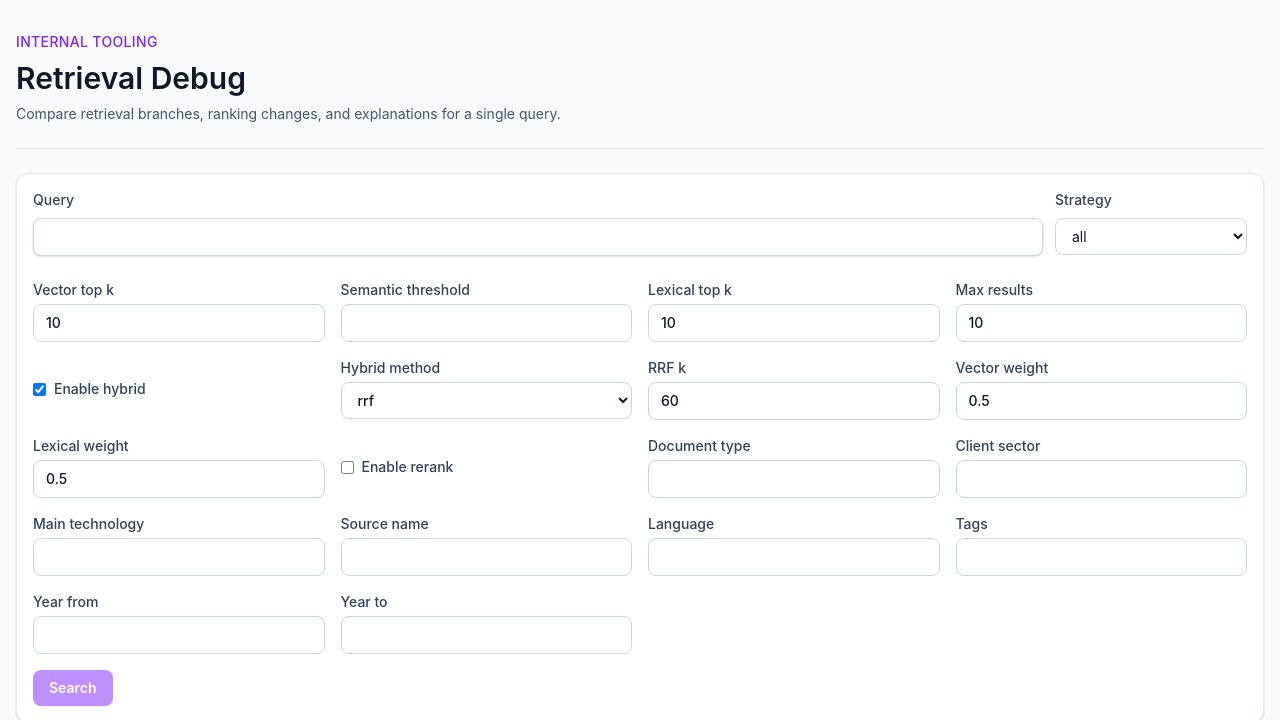
RetrievalDebugPage › renders comparative results, branch rankings, explanations, and ranking diff
Type "OAuth backend" into the search field labelled "Query" at (538, 237), box x1=33 y1=218 x2=1043 y2=256
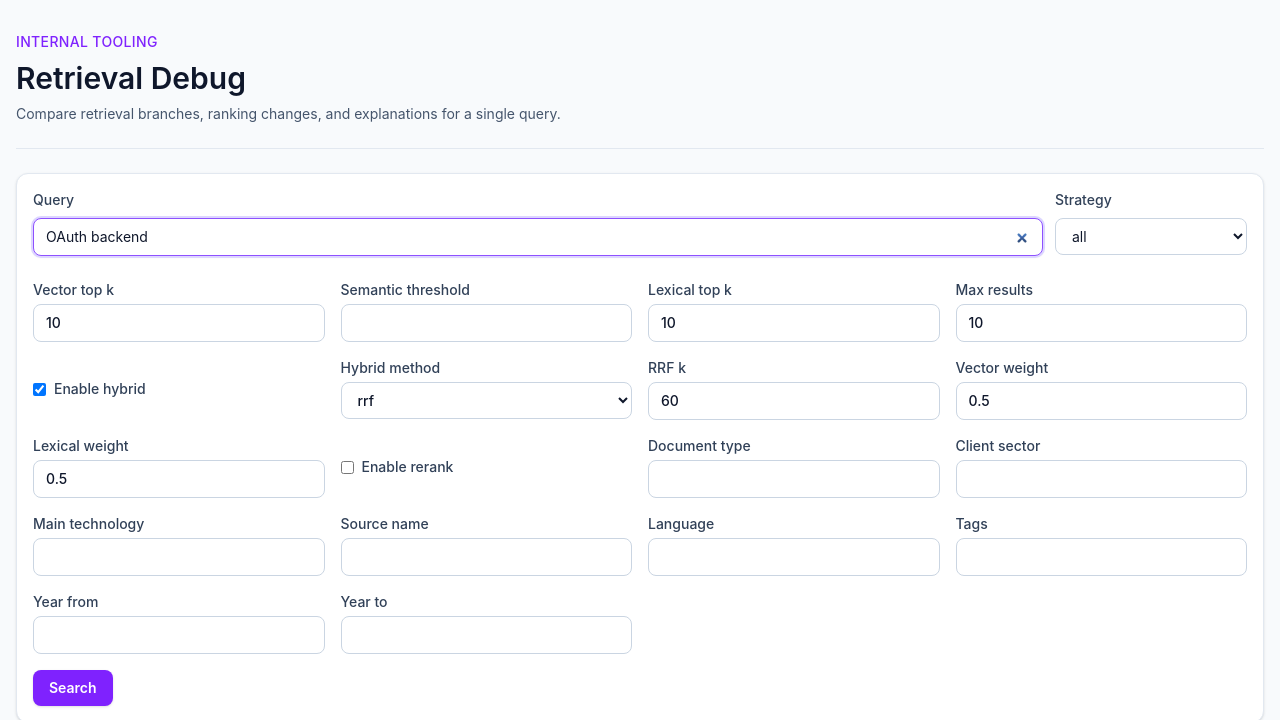
Click the button "Search" at (73, 688), box x1=33 y1=670 x2=112 y2=706
(page scrolled)
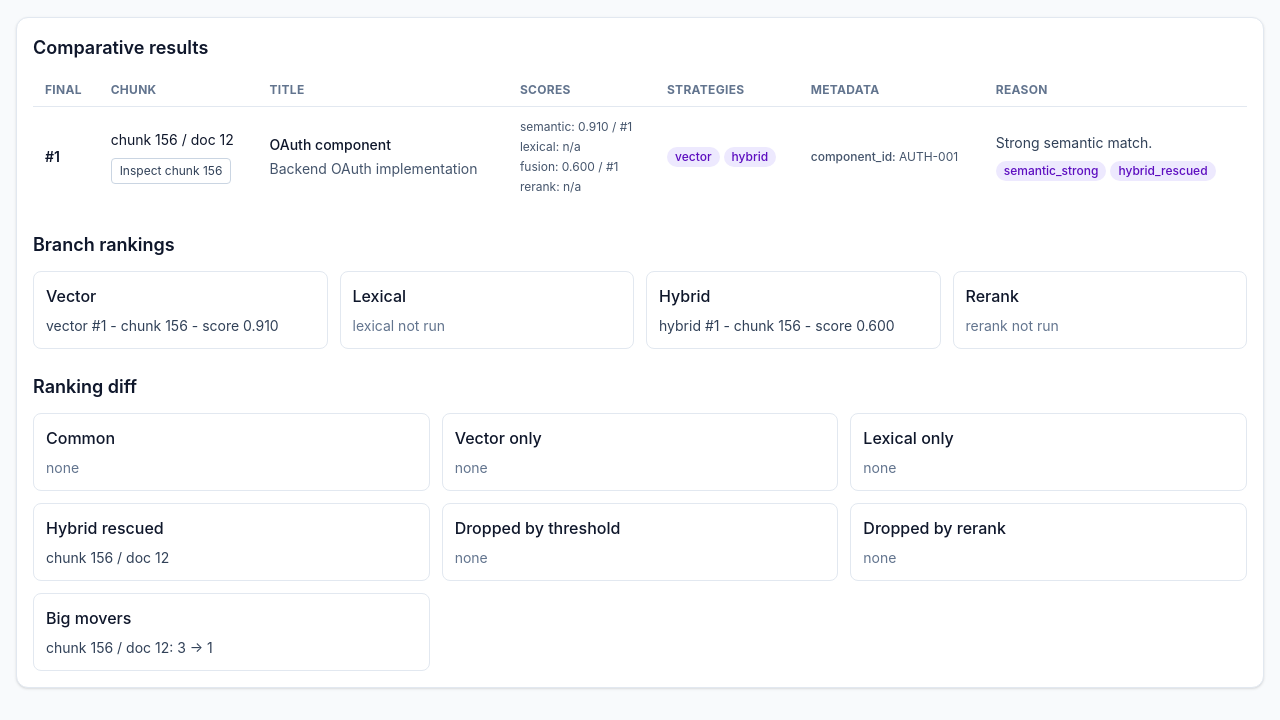
Result: the text "OAuth component" is shown at x1=270 y1=136 x2=391 y2=153
Result: the text "Backend OAuth implementation" is shown at x1=270 y1=159 x2=496 y2=179
Result: the text "Strong semantic match." is shown at x1=996 y1=134 x2=1152 y2=151
